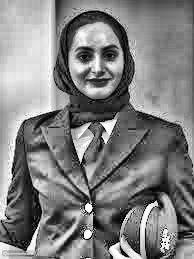happy: (63, 1, 149, 119)
